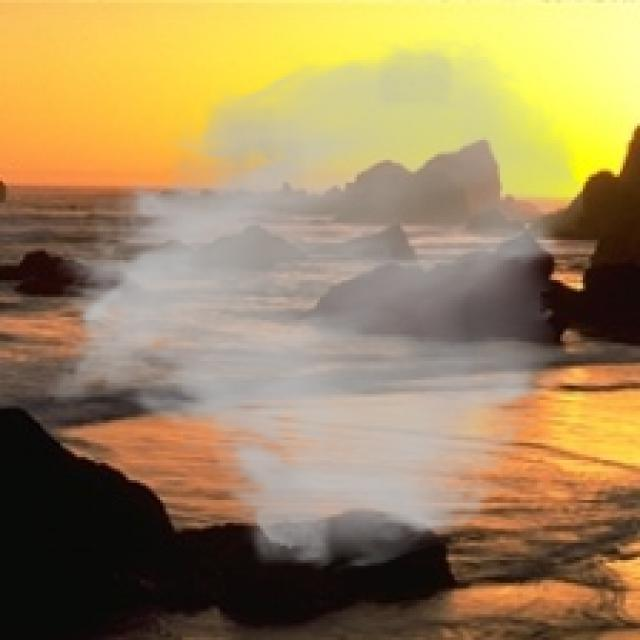smoke: (43, 34, 588, 574)
